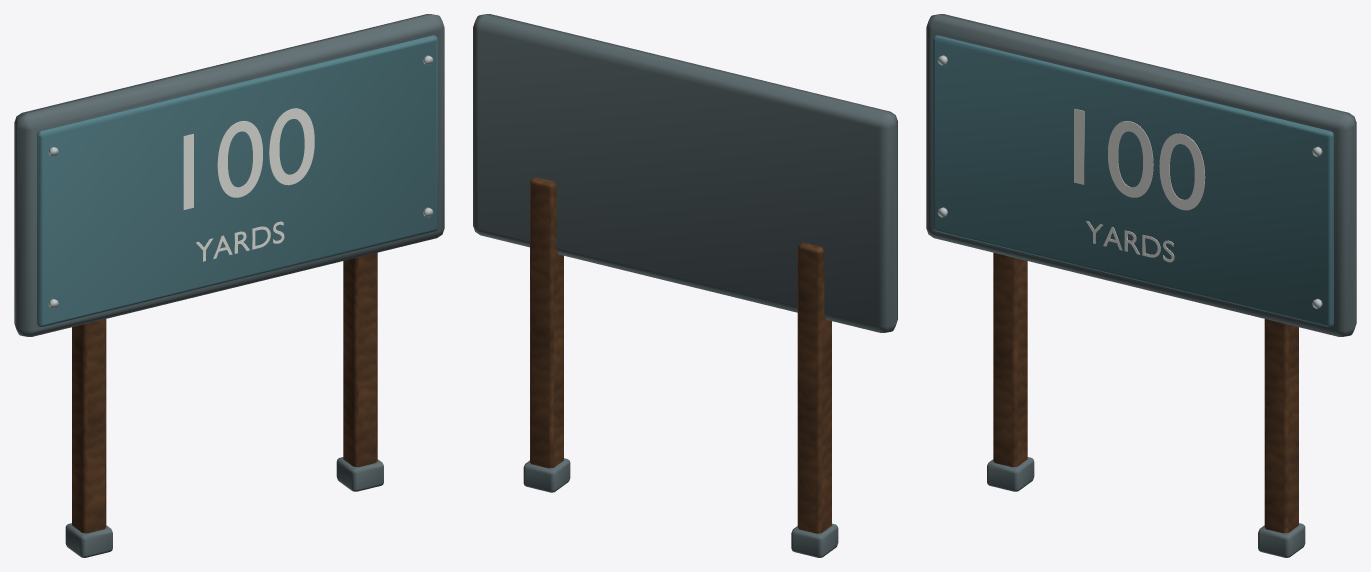
Rendered from distance-marker-100.glb.
3 renders of one model, left to right at view 1: azimuth 30°, elevation 25°; view 2: azimuth 150°, elevation 25°; view 3: azimuth 330°, elevation 25°, orthographic.
Parts seen in each view (by area): view 1: MarkerFace.001, PostFoot.001, Post.001, Yardage.001; view 2: PostFoot.001, Post.001; view 3: MarkerFace.001, PostFoot.001, Post.001, Yardage.001.
Boxes of the visible parts, x1,y1,x2,y2 form: MarkerFace.001: (37,35,437,326); PostFoot.001: (14,14,444,557); Post.001: (72,252,377,533); Yardage.001: (183,108,314,261); PostFoot.001: (473,14,897,557); Post.001: (530,177,831,533); MarkerFace.001: (933,35,1333,326); PostFoot.001: (926,14,1356,557); Post.001: (993,252,1298,533); Yardage.001: (1074,108,1205,262).
Size of the model in its own units: 1.32 by 1.35 by 0.142.
Materials: 5 (1 with a texture image).
